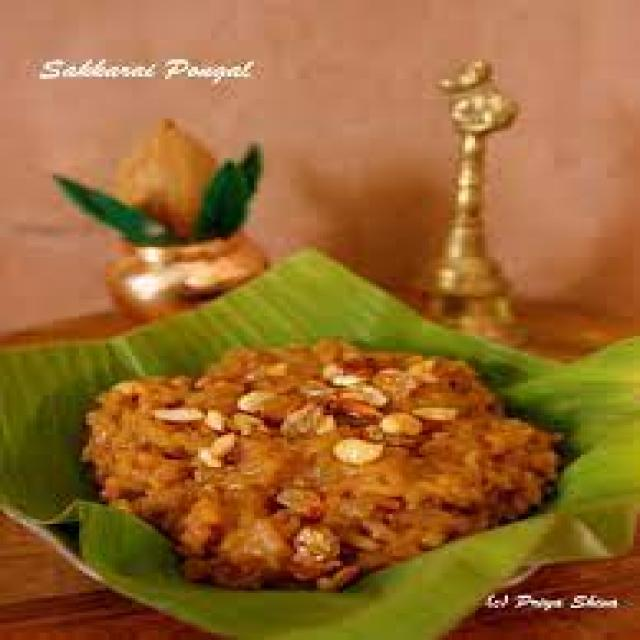PONGAL: (82, 341, 558, 588)
